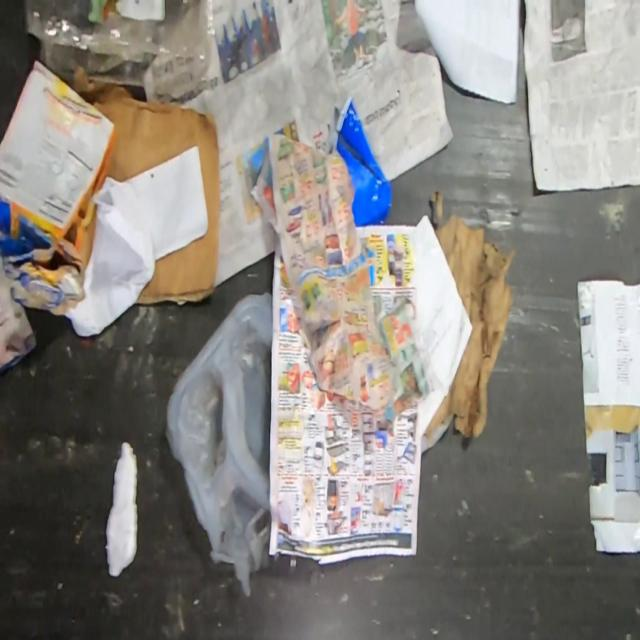cardboard: (66, 63, 219, 305), (423, 188, 516, 442), (0, 61, 116, 251), (0, 193, 84, 311), (80, 204, 99, 272)
rigid_plastic: (166, 291, 273, 598), (24, 0, 217, 95), (324, 96, 393, 227)
